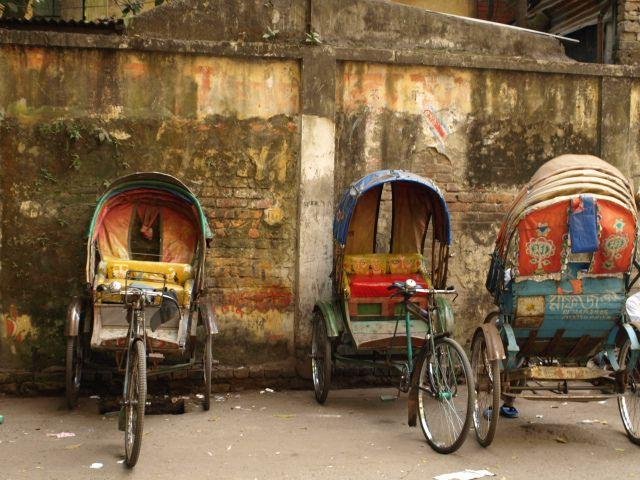Rickshaw: (472, 155, 639, 446), (310, 169, 475, 452), (65, 171, 217, 466)
